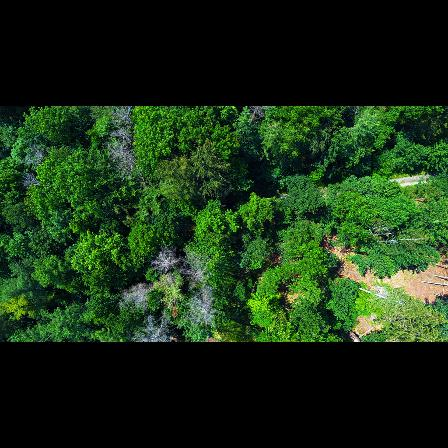Dead: (118, 280, 161, 312), (187, 288, 217, 329), (131, 316, 174, 342), (24, 142, 46, 186), (185, 256, 214, 289), (148, 246, 179, 275), (116, 149, 147, 178), (113, 106, 139, 130)
